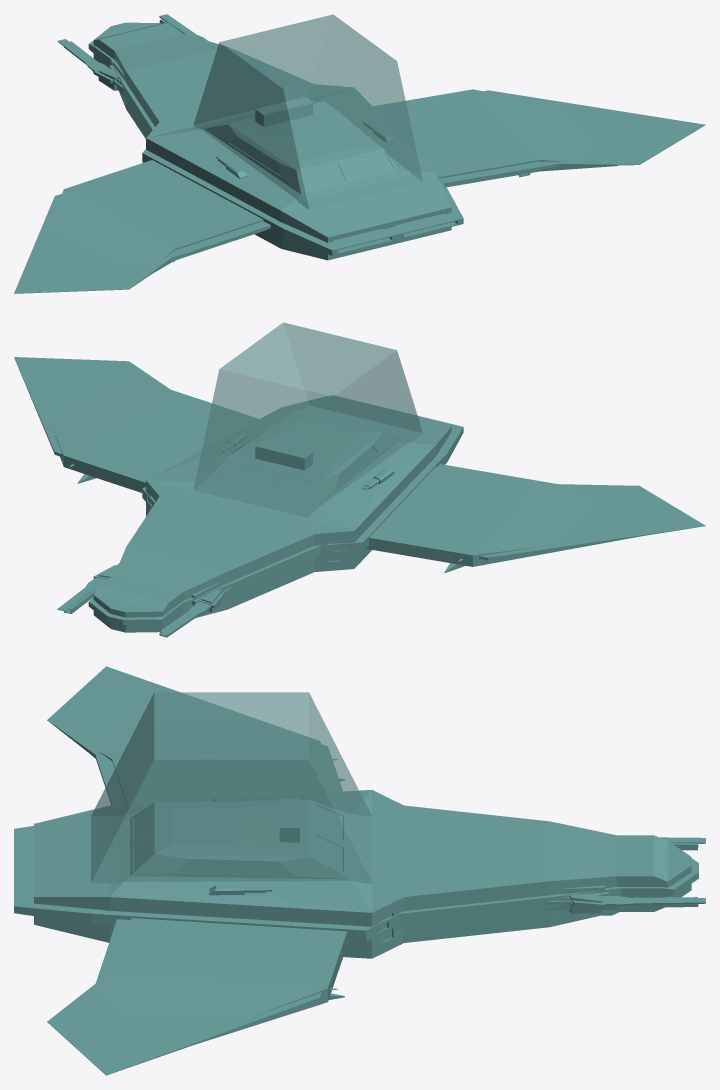
File: UFO.obj
3 renders of one model, top to bottom at view 1: azimuth 30°, elevation 25°; view 2: azimuth 150°, elevation 25°; view 3: azimuth 270°, elevation 25°, orthographic. The views are drawn at different scales.
Visible parts, largest first — view 1: Chassis, Window, Glow, Part; view 2: Chassis, Window, Glow, Part; view 3: Chassis, Window, Glow, Part.
Boxes of the visible parts, x1,y1,x2,y2 form: Chassis: (50, 19, 618, 272); Window: (193, 14, 422, 209); Glow: (14, 14, 705, 293); Part: (255, 97, 312, 126); Chassis: (50, 385, 636, 637); Window: (193, 322, 422, 517); Glow: (14, 357, 705, 636); Part: (255, 440, 312, 470); Chassis: (34, 721, 698, 1043); Window: (91, 692, 371, 883); Glow: (14, 666, 705, 1075); Part: (279, 798, 299, 842).
Bounding box in the file's own units: 26.24 × 5.51 × 18.76.
